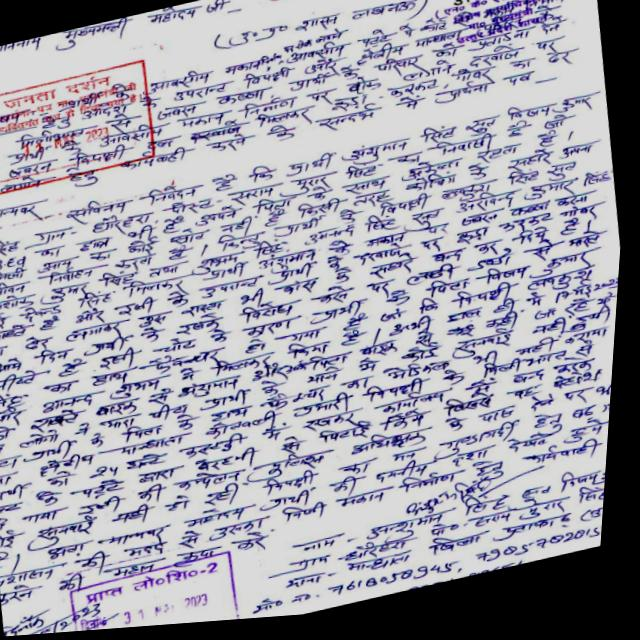antritgovtstamp: (54, 540, 259, 633)
jantadarsan: (0, 56, 170, 199)
signnamestamp: (427, 0, 584, 49)
